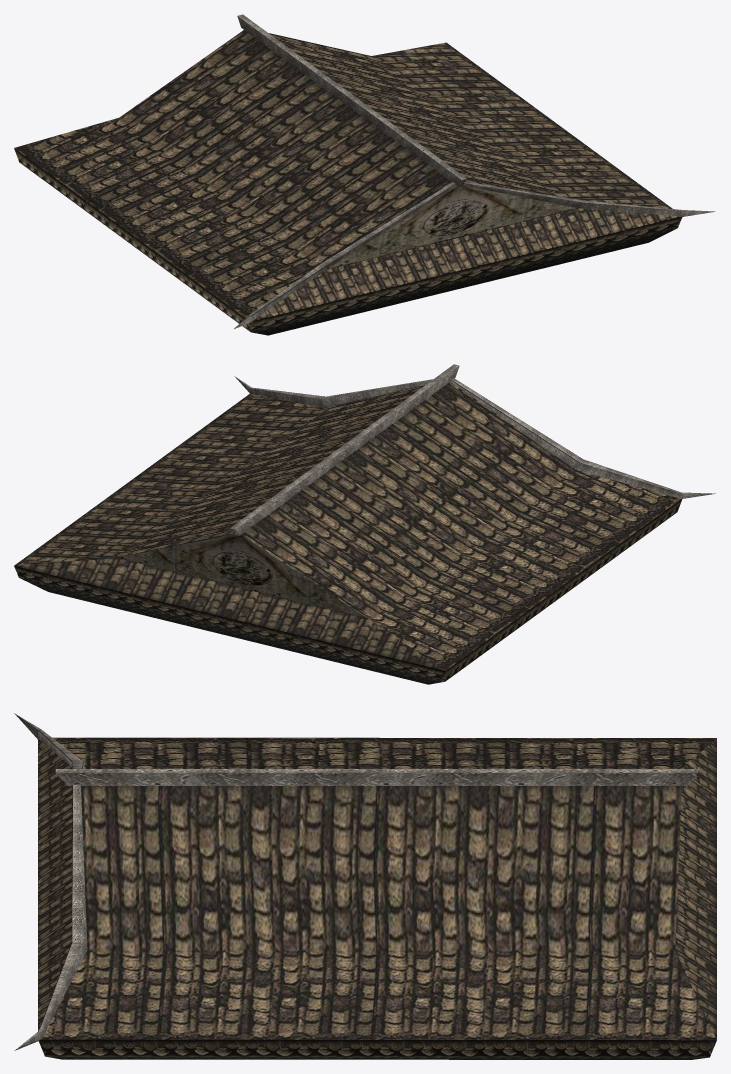
The picture shows the model from 3 angles, top to bottom: view 1: azimuth 30°, elevation 25°; view 2: azimuth 150°, elevation 25°; view 3: azimuth 270°, elevation 25°; orthographic projection. The views are drawn at different scales.
Parts seen in each view (by area): view 1: Plane59; view 2: Plane59; view 3: Plane59.
Part boxes in pixels (left/top/right/bottom): Plane59: left=14, top=14, right=715, bottom=335; Plane59: left=14, top=364, right=715, bottom=684; Plane59: left=14, top=713, right=716, bottom=1059.
Size of the model in its own units: 191 by 41.58 by 167.
